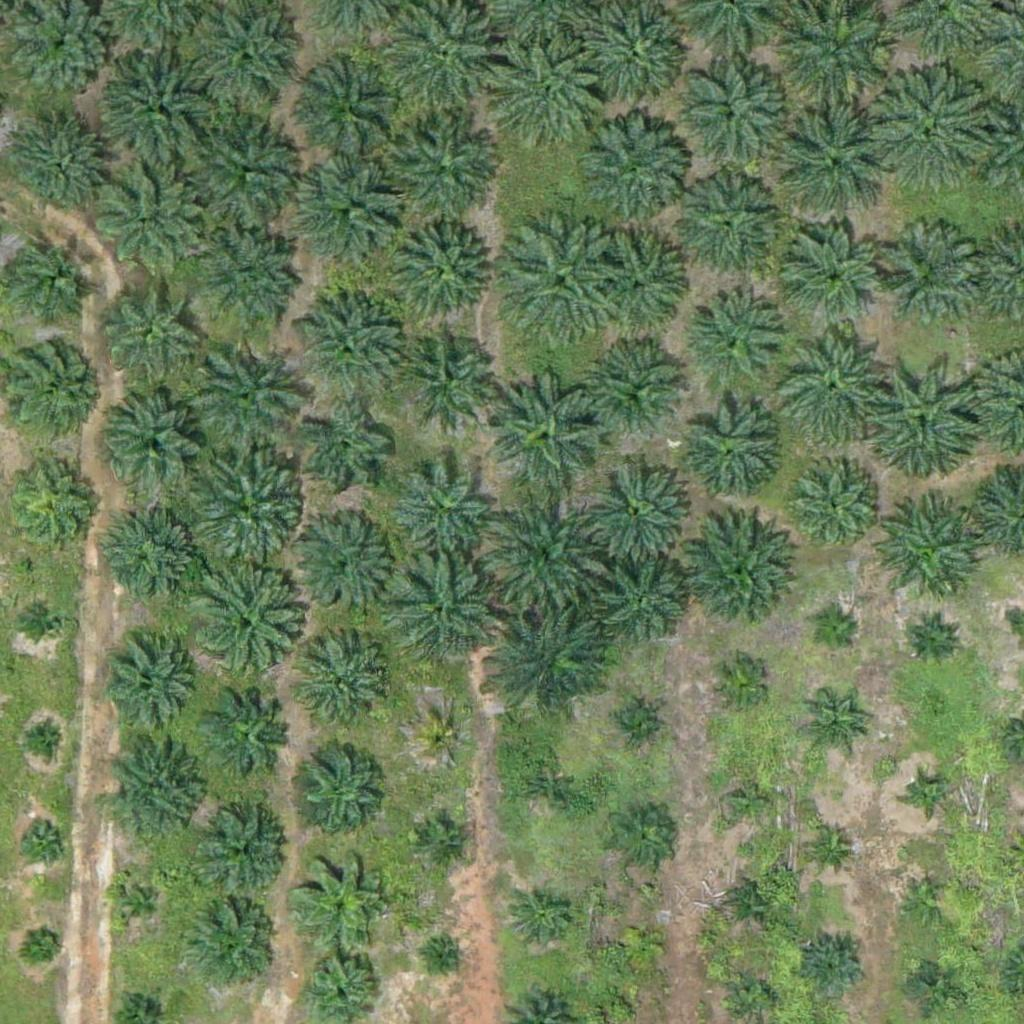Kelapa_Sawit: (93, 45, 218, 171), (184, 109, 309, 235), (488, 36, 613, 162), (567, 107, 692, 233), (669, 57, 794, 183), (774, 103, 899, 229), (863, 357, 988, 483), (771, 323, 896, 449), (496, 218, 621, 344), (481, 488, 606, 614), (489, 599, 614, 725), (870, 70, 995, 195), (182, 446, 307, 571), (182, 565, 307, 690), (680, 519, 793, 633), (189, 2, 302, 115), (389, 557, 502, 670), (294, 292, 407, 405), (191, 223, 304, 336), (188, 341, 301, 454), (581, 449, 693, 563), (491, 369, 603, 483), (296, 52, 408, 165), (385, 118, 497, 231), (869, 501, 981, 614), (93, 168, 205, 281), (9, 120, 109, 221), (875, 226, 975, 327), (785, 229, 885, 330), (784, 456, 884, 557), (673, 176, 773, 277), (685, 292, 785, 393), (587, 225, 687, 326), (393, 458, 493, 559), (297, 404, 397, 505), (292, 513, 392, 614), (95, 274, 195, 375), (106, 391, 206, 492), (103, 510, 203, 611), (100, 638, 200, 739), (5, 456, 105, 557), (290, 848, 390, 949), (108, 740, 208, 841), (677, 401, 777, 501), (590, 340, 690, 440), (390, 220, 490, 320), (399, 328, 499, 428), (302, 164, 402, 264), (303, 642, 391, 731), (599, 560, 687, 648), (188, 898, 276, 986), (200, 806, 288, 894), (207, 693, 295, 781), (297, 738, 384, 826), (801, 699, 864, 762), (707, 653, 770, 716), (803, 935, 866, 998), (718, 770, 781, 833), (611, 808, 673, 871), (511, 887, 573, 950), (515, 757, 577, 820), (908, 956, 958, 1007), (728, 878, 778, 929), (804, 821, 854, 872), (729, 972, 779, 1023), (608, 699, 658, 750), (617, 918, 667, 969), (418, 816, 468, 866), (908, 614, 958, 664), (901, 876, 951, 926), (809, 609, 859, 659), (419, 716, 469, 766), (114, 878, 164, 928), (19, 814, 69, 864), (910, 775, 948, 813), (30, 603, 68, 641), (24, 720, 61, 758), (26, 924, 63, 962), (433, 944, 458, 969)
